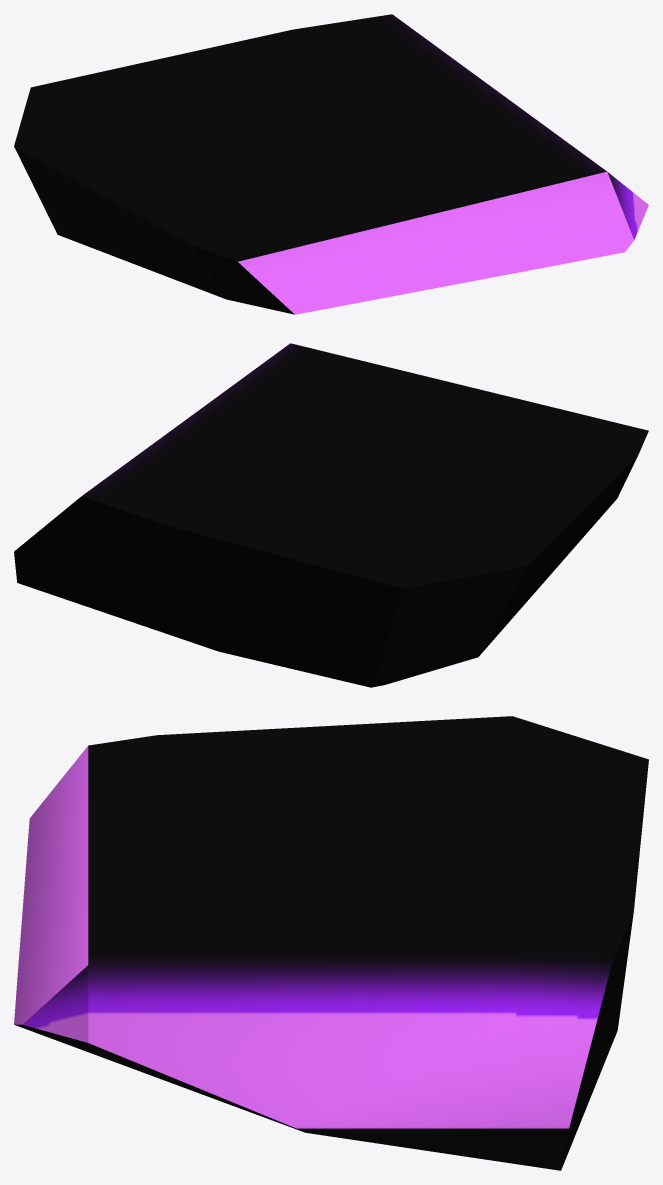
File: blockParticle_7.obj
3 renders of one model, top to bottom at view 1: azimuth 30°, elevation 25°; view 2: azimuth 150°, elevation 25°; view 3: azimuth 270°, elevation 25°, orthographic. The views are drawn at different scales.
Parts seen in each view (by area): view 1: 立方体_cell.008; view 2: 立方体_cell.008; view 3: 立方体_cell.008.
Part boxes in pixels (x1,y1,x2,y2): 立方体_cell.008: [14, 14, 648, 314]; 立方体_cell.008: [14, 343, 648, 687]; 立方体_cell.008: [14, 716, 648, 1170].
Size of the model in its own units: 1.23 by 0.2922 by 1.09.
2 materials, 2 textured.
